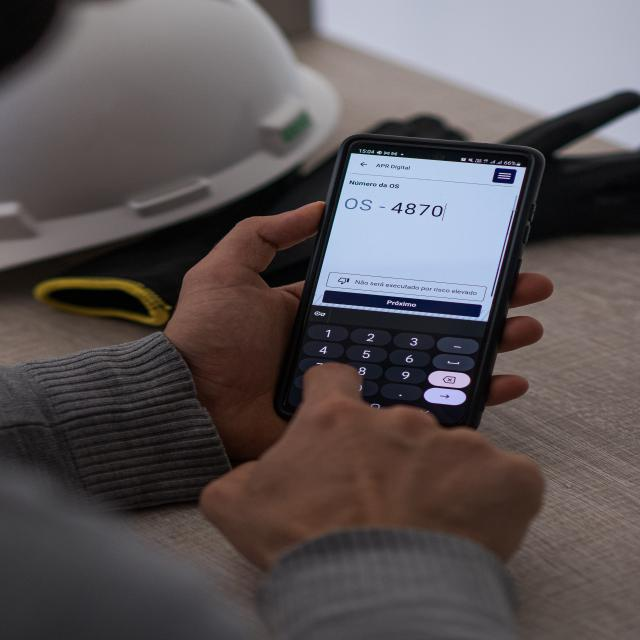capacete: (0, 0, 349, 276)
